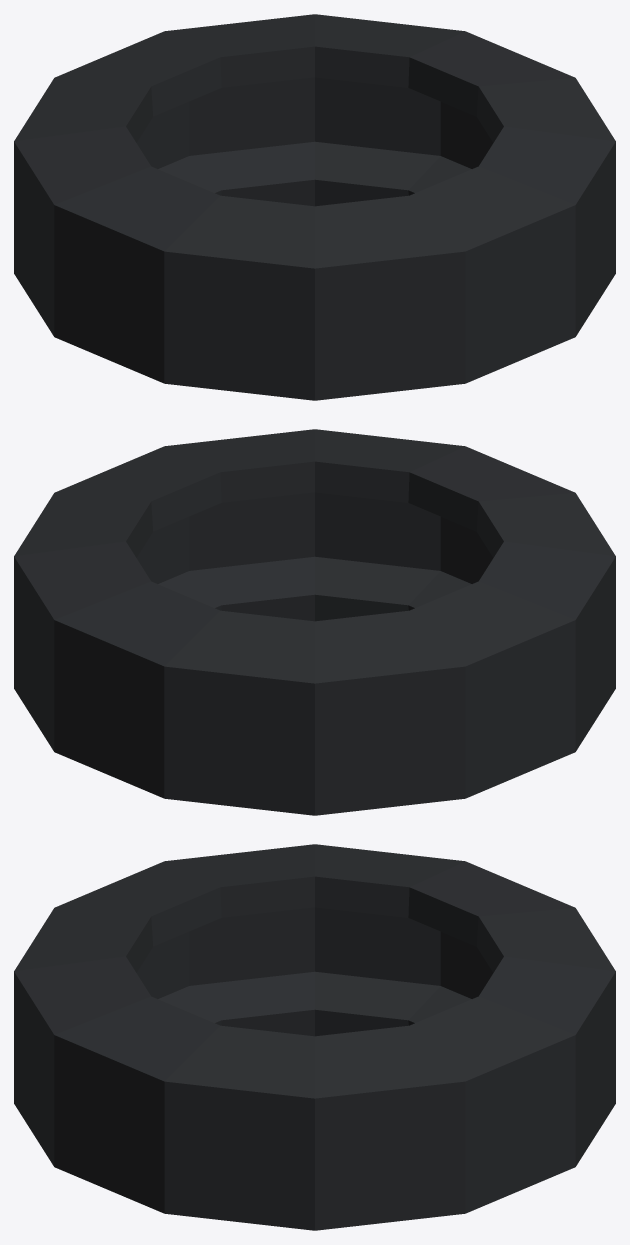
Rendered from SM_Prop_Tire_01.glb.
3 renders of one model, top to bottom at view 1: azimuth 30°, elevation 25°; view 2: azimuth 150°, elevation 25°; view 3: azimuth 270°, elevation 25°, orthographic.
Parts seen in each view (by area): view 1: SM_Prop_Tire_01; view 2: SM_Prop_Tire_01; view 3: SM_Prop_Tire_01.
Part boxes in pixels (x1=…): SM_Prop_Tire_01: x1=14, y1=14, x2=615, y2=400; SM_Prop_Tire_01: x1=14, y1=429, x2=615, y2=815; SM_Prop_Tire_01: x1=14, y1=844, x2=615, y2=1230.
Bounding box in the file's own units: 0.7245 × 0.2152 × 0.7245.
Materials: 1 (1 with a texture image).
